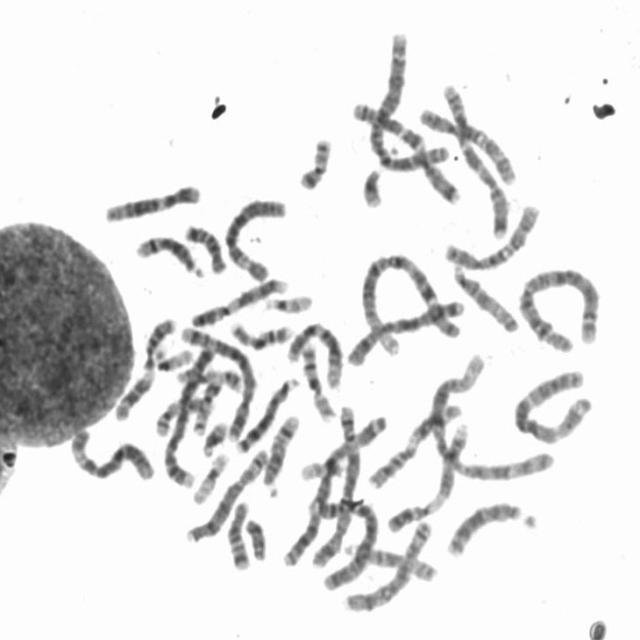A1: (424, 348, 558, 484), (353, 246, 463, 364)
A2: (361, 29, 455, 180), (514, 263, 603, 354)
A3: (277, 409, 389, 571), (510, 362, 596, 447)
B4: (158, 338, 218, 491), (314, 499, 380, 593)
B5: (176, 319, 257, 447), (310, 401, 362, 573)
C10: (415, 102, 520, 186), (440, 198, 543, 272)
C11: (363, 399, 464, 491), (110, 312, 180, 422)
C12: (100, 178, 203, 224), (282, 316, 344, 390)
C6: (220, 193, 288, 283), (65, 422, 159, 484)
C7: (438, 75, 513, 240), (350, 95, 462, 205)
C8: (339, 514, 434, 615), (182, 445, 270, 544)
C9: (383, 418, 474, 536), (187, 272, 290, 329)
D13: (232, 370, 304, 454), (442, 497, 535, 559)
D14: (133, 229, 208, 279), (260, 408, 302, 489)
D15: (448, 260, 521, 334), (340, 536, 440, 584)
E16: (298, 338, 337, 422), (226, 315, 296, 351)
E17: (150, 391, 205, 438), (171, 363, 242, 393)
E18: (180, 219, 229, 275), (224, 496, 252, 572)
F19: (188, 446, 232, 505), (150, 342, 195, 372)
F20: (295, 132, 334, 192), (188, 373, 224, 437)
G21: (198, 416, 230, 458), (358, 162, 386, 210)
G22: (260, 288, 316, 315), (296, 456, 348, 482)
X: (344, 296, 466, 368)
Y: (242, 513, 268, 562)
